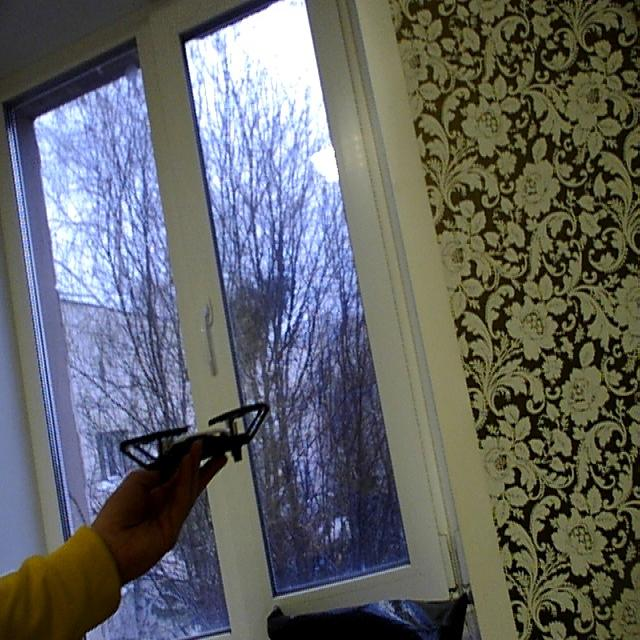drone: (118, 392, 276, 482)
